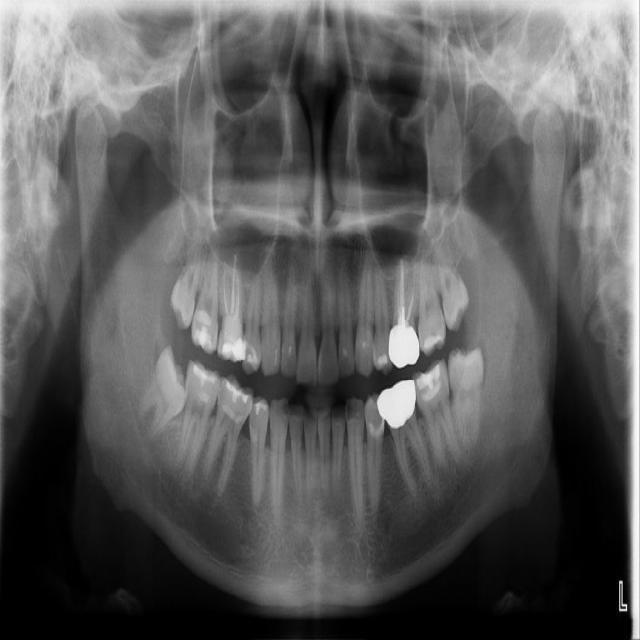Filling: (414, 359, 448, 411), (217, 375, 254, 421), (379, 381, 415, 428), (186, 359, 219, 408), (218, 314, 246, 362), (388, 324, 418, 367), (418, 309, 446, 355), (192, 307, 218, 354), (373, 331, 394, 373), (241, 333, 260, 374), (249, 397, 268, 433)
Root Canal Treatment: (406, 269, 415, 321), (398, 260, 404, 326), (231, 255, 237, 314), (223, 272, 228, 317), (235, 276, 240, 318)
impacted tooth: (136, 344, 186, 446), (448, 346, 484, 452), (434, 236, 468, 334)
